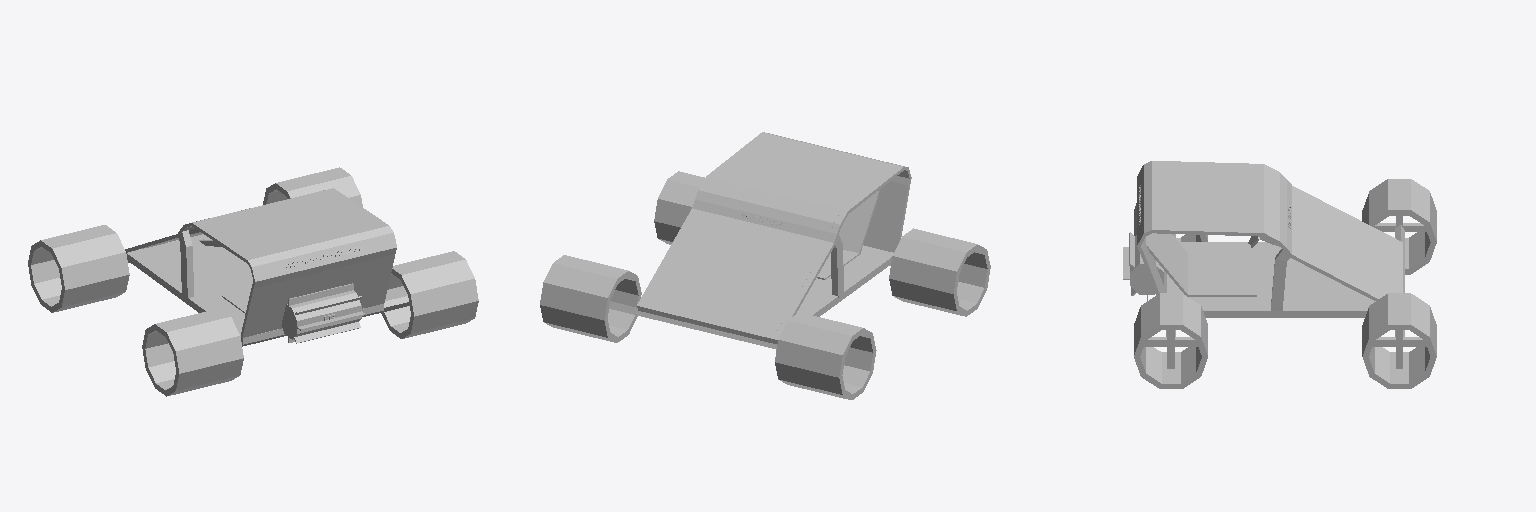
File: VenusRover.obj
The picture shows the model from 3 angles: view 1: azimuth 30°, elevation 25°; view 2: azimuth 150°, elevation 25°; view 3: azimuth 270°, elevation 25°; orthographic projection.
Parts seen in each view (by area): view 1: Frame, RightWheel, RightWheel001, LeftWheel, Box001, Frame2, RTG, LeftWheel001; view 2: GlassFront, Frame, RightWheel, RightWheel001, LeftWheel001, GlassPaneRoof, Frame2, Box001, LeftWheel, Box003, BraceFrontWheelRight005; view 3: Frame, Box001, GlassFront, LeftWheel001, LeftWheel, RightWheel001, Box002, Box003, GlassPaneRoof, Frame2, RTG.
Boxes of the visible parts, x1,y1,x2,y2 form: Frame: [139, 188, 396, 335]; RightWheel: [142, 308, 243, 396]; RightWheel001: [28, 225, 129, 312]; LeftWheel: [381, 251, 478, 338]; Box001: [126, 234, 383, 344]; Frame2: [125, 221, 261, 341]; RTG: [281, 290, 361, 339]; LeftWheel001: [263, 167, 362, 206]; GlassFront: [648, 210, 827, 330]; Frame: [637, 132, 902, 338]; RightWheel: [889, 228, 990, 316]; RightWheel001: [775, 312, 876, 399]; LeftWheel001: [540, 255, 641, 342]; GlassPaneRoof: [701, 178, 841, 231]; Frame2: [772, 165, 911, 340]; Box001: [638, 245, 893, 343]; LeftWheel: [654, 171, 704, 244]; Box003: [839, 190, 879, 253]; BraceFrontWheelRight005: [609, 301, 776, 349]; Frame: [1137, 164, 1402, 310]; Box001: [1167, 242, 1375, 317]; GlassFront: [1292, 188, 1393, 296]; LeftWheel001: [1362, 293, 1436, 388]; LeftWheel: [1134, 293, 1207, 388]; RightWheel001: [1362, 179, 1436, 274]; Box002: [1186, 254, 1256, 296]; Box003: [1146, 233, 1187, 294]; GlassPaneRoof: [1264, 167, 1286, 244]; Frame2: [1137, 161, 1402, 244]; RTG: [1130, 235, 1163, 294].
Bounding box in the file's own units: 5.13 × 1.97 × 4.66.